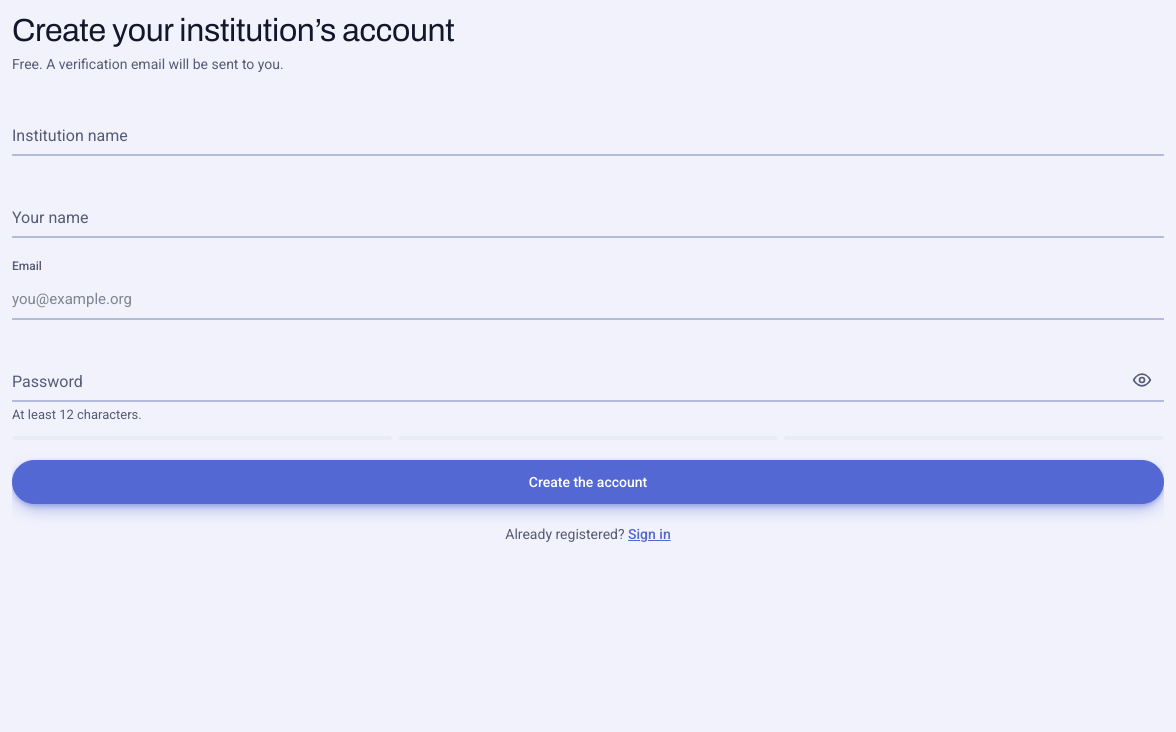
it: RegisterForm › shows each error next to its field and focuses the first one
Type "Collège" into the field with test id "register-institution-name".
click(588, 134); type("Collège")  # box [12,112,1164,156]
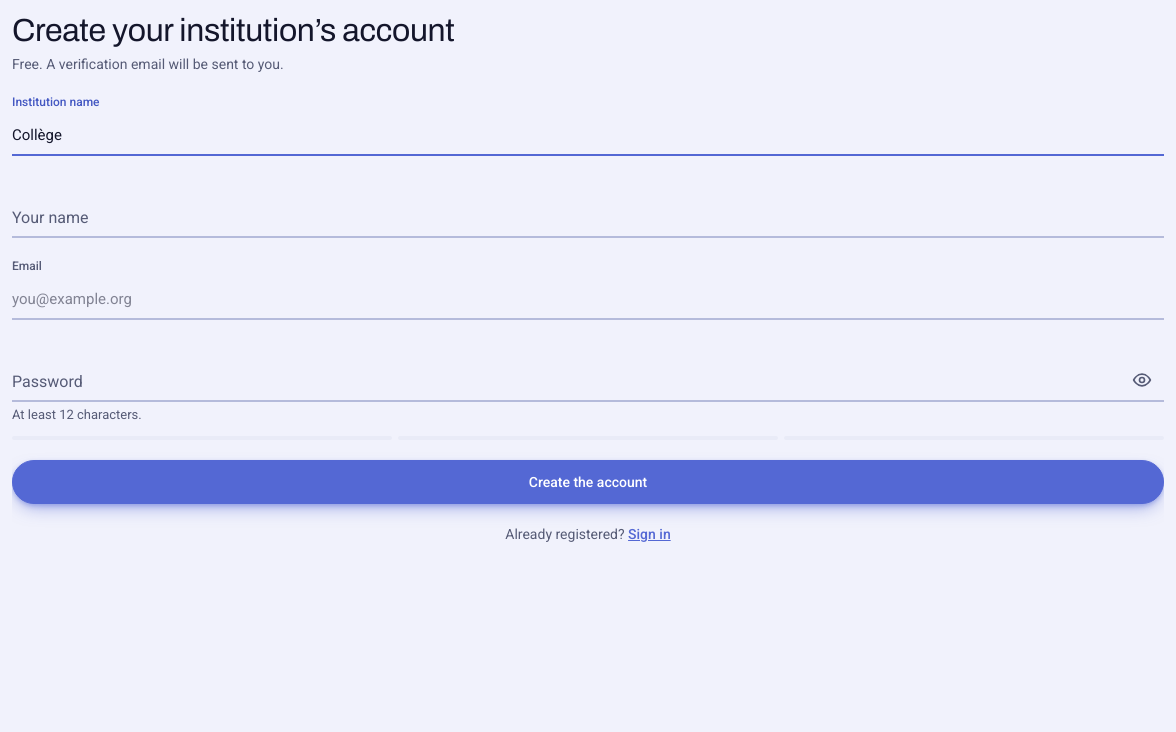
Type "Marie" into the field with test id "register-name".
click(588, 216); type("Marie")  # box [12,194,1164,238]
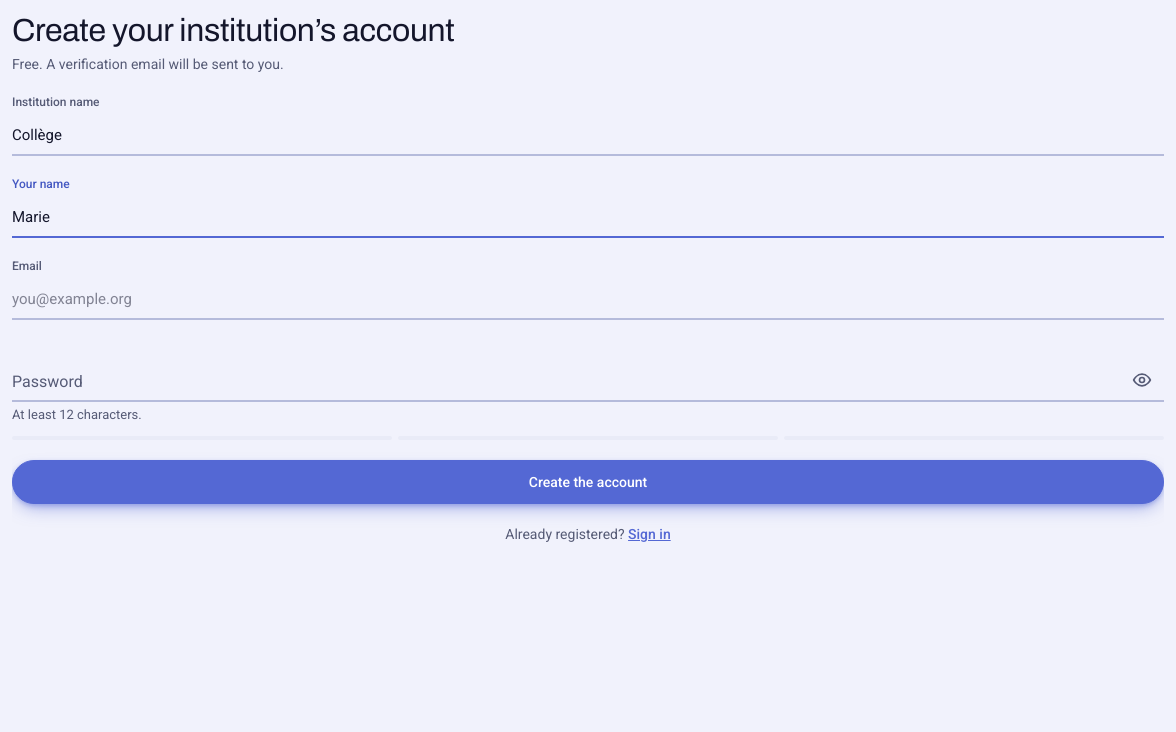
Type "marie@example.test" into the field with test id "register-email".
click(588, 298); type("marie@example.test")  # box [12,276,1164,320]
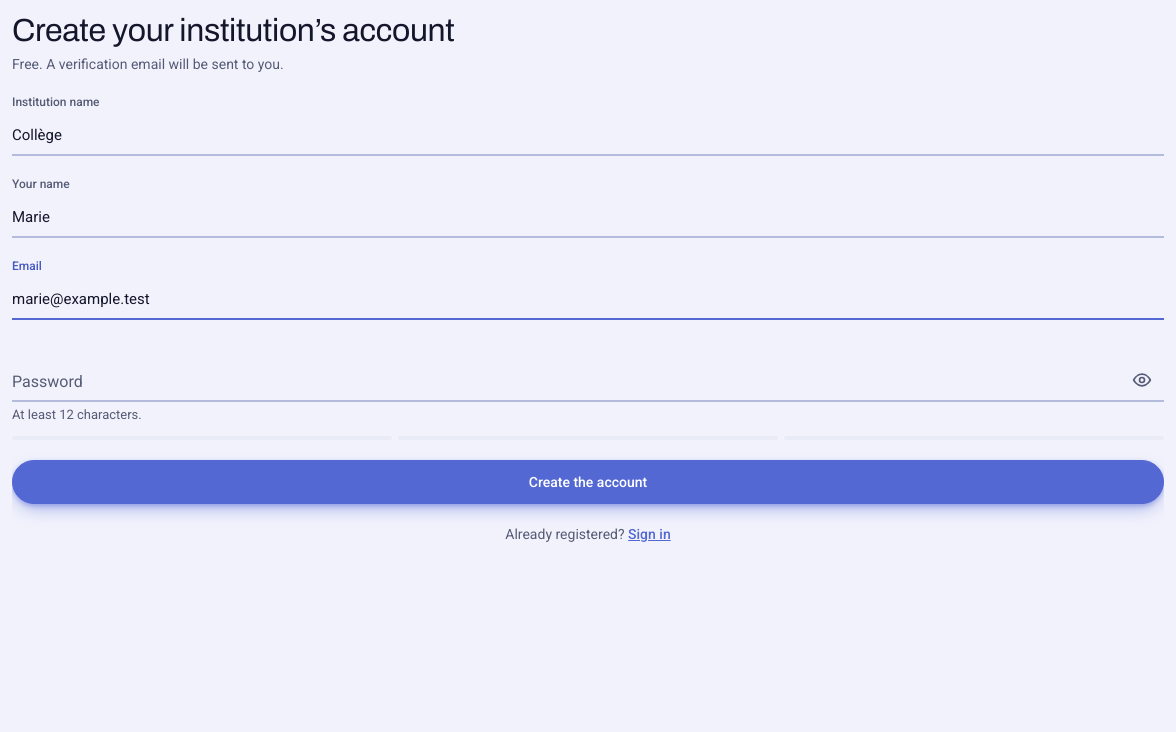
Type "a long enough password" into the password field with test id "register-password".
click(588, 380); type("a long enough password")  # box [12,358,1164,402]
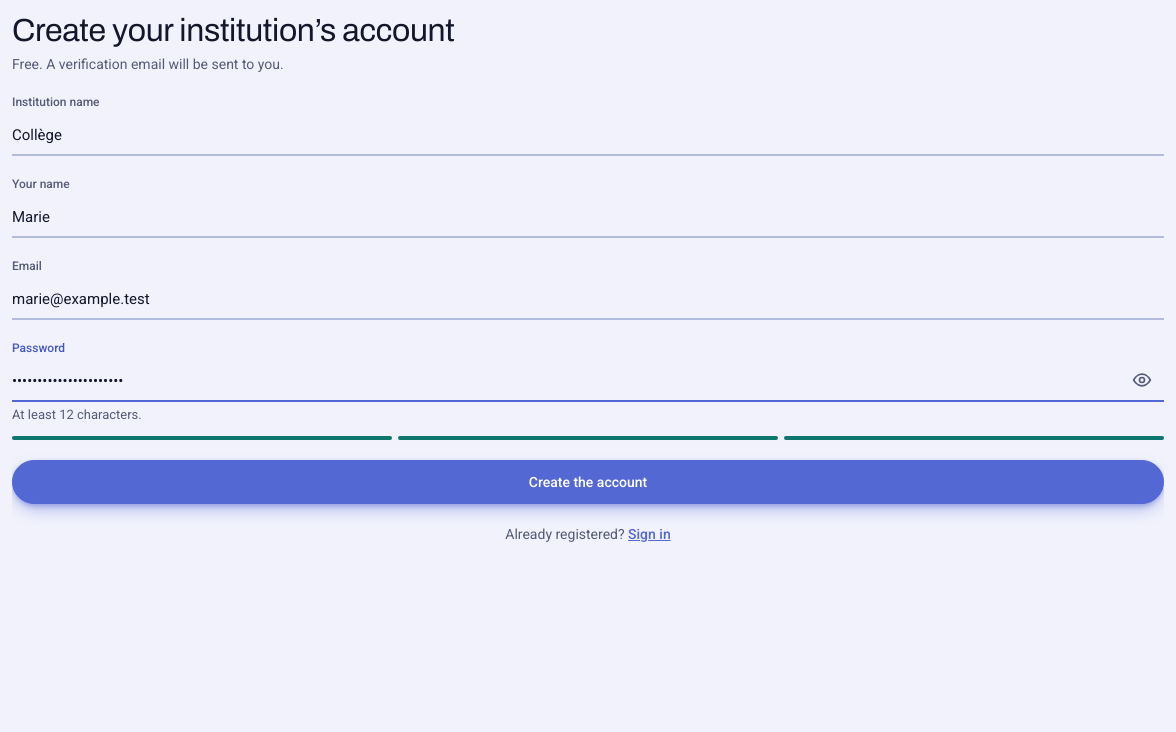
Click the button with test id "register-submit".
click(588, 482)  # box [12,460,1164,504]
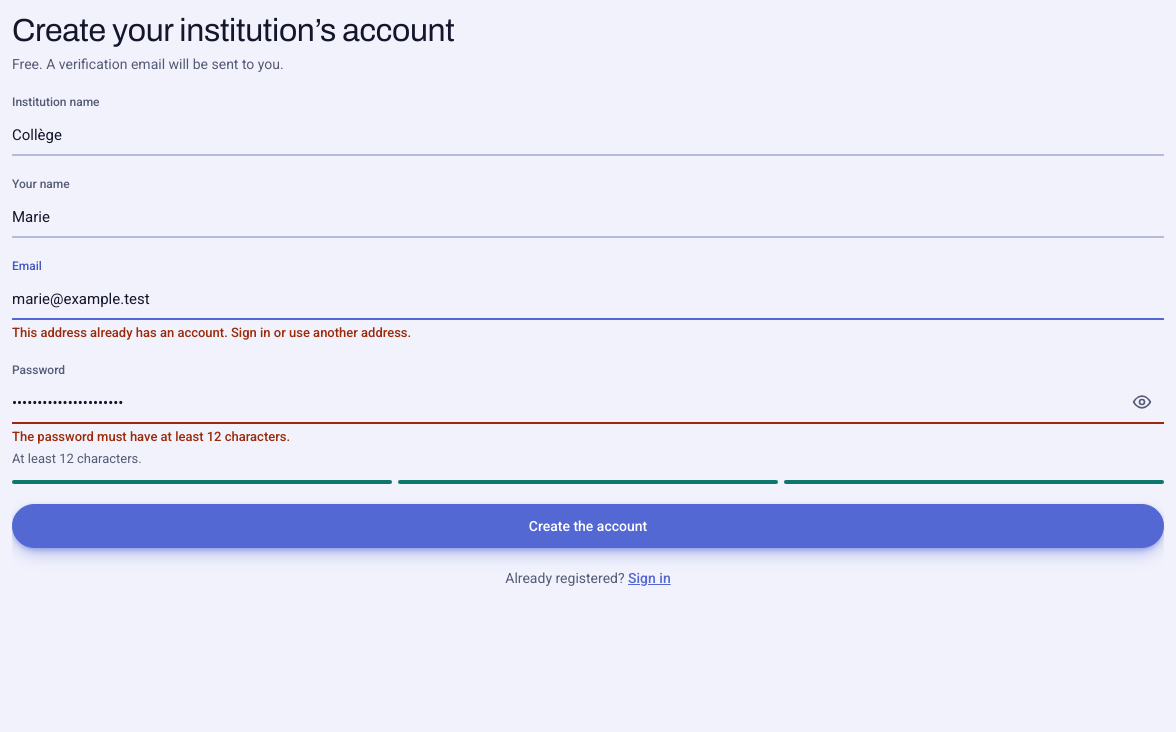
Now the text with test id "field-error-email" shows "already has an account", box [12,325,411,340]
Now the text with test id "field-error-password" shows "at least 12 characters", box [12,429,290,444]
